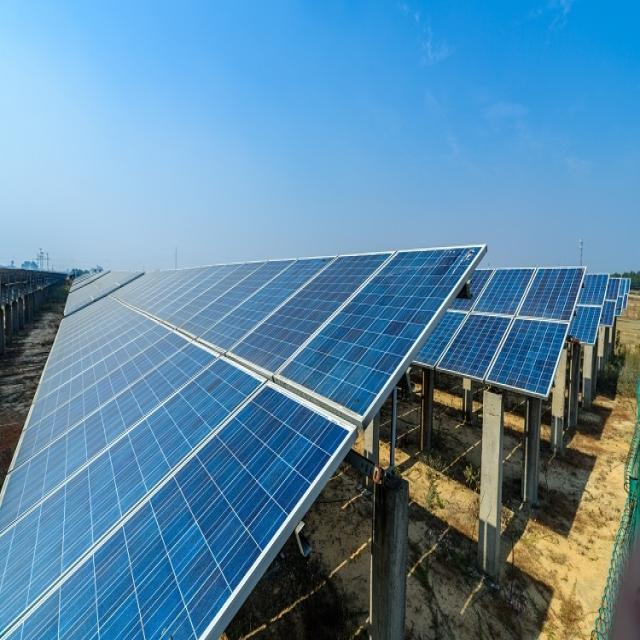Clean: (0, 251, 482, 640), (417, 268, 588, 399), (568, 276, 626, 347)
